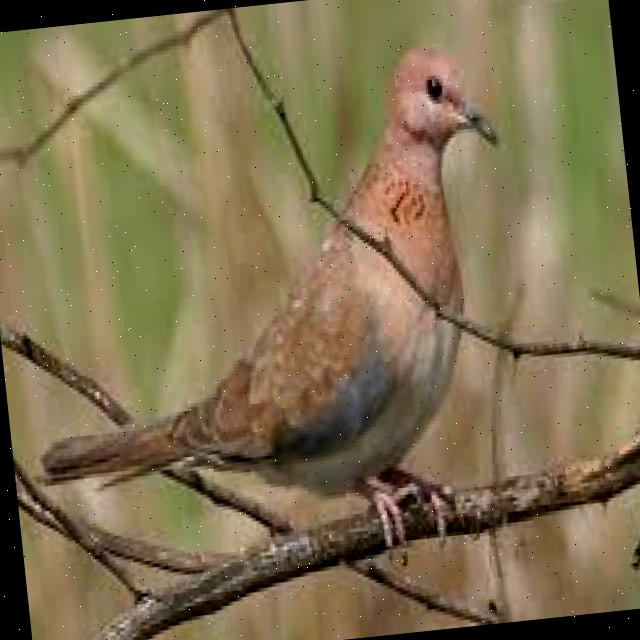dove: (0, 32, 551, 603)
